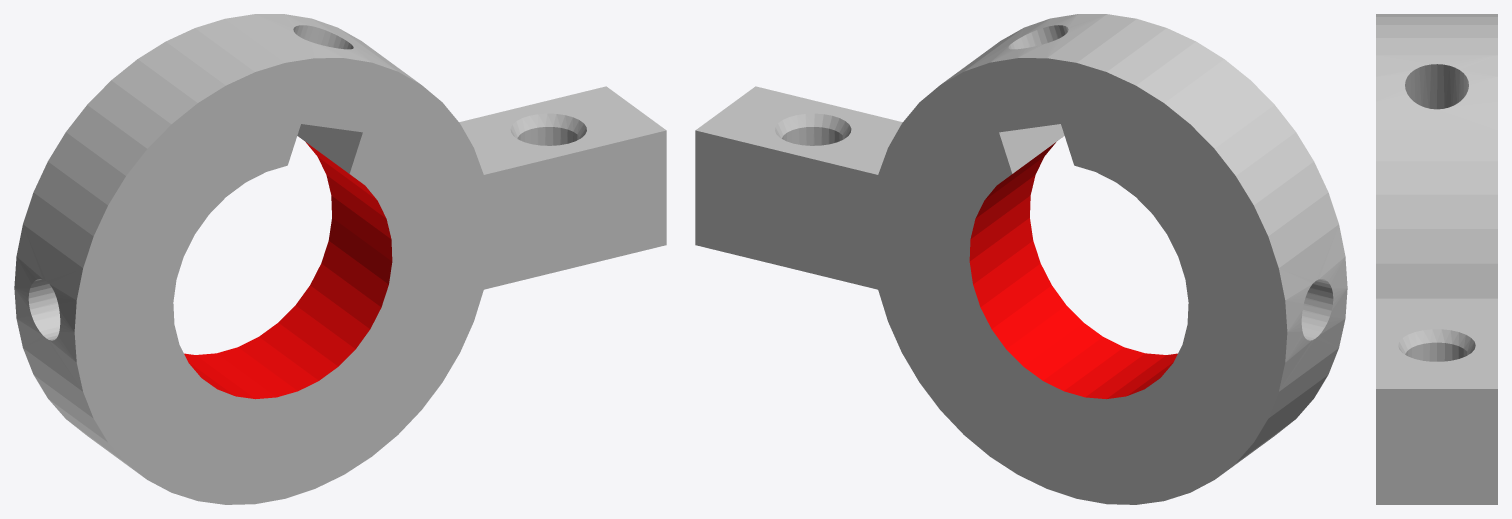
The model's file is 3__1__stp_10.obj.
The picture shows the model from 3 angles, left to right: view 1: azimuth 30°, elevation 25°; view 2: azimuth 150°, elevation 25°; view 3: azimuth 270°, elevation 25°; orthographic projection.
Visible parts, largest first — view 1: Object1; view 2: Object1; view 3: Object1.
Part boxes in pixels (x1,y1,x2,y2): Object1: [14, 14, 666, 504]; Object1: [695, 14, 1347, 504]; Object1: [1376, 14, 1497, 504].
Size of the model in its own units: 54 by 38 by 9.52.
